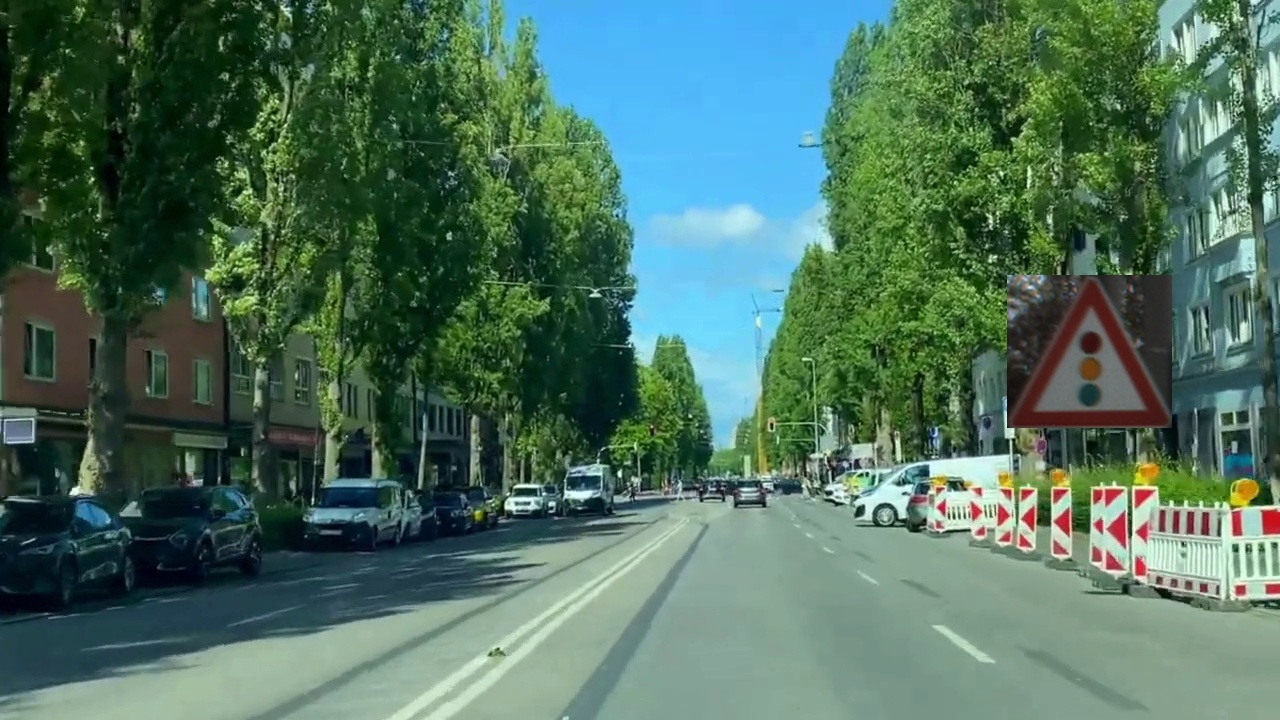Signals: (1007, 275, 1172, 428)
